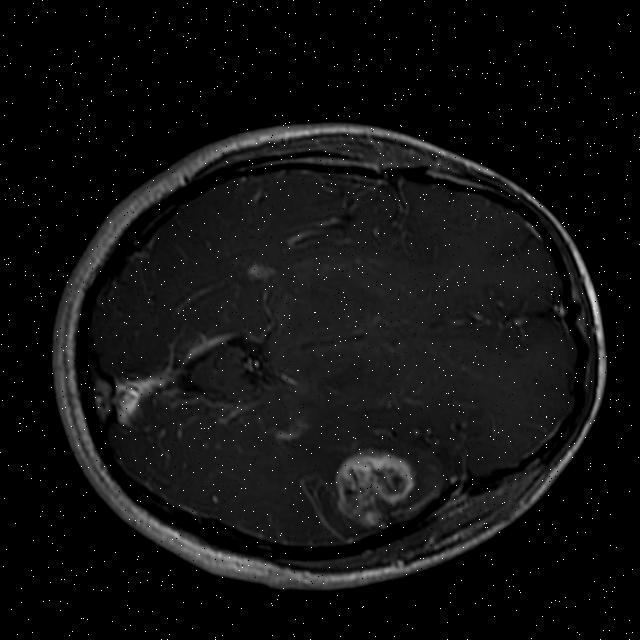Glioma: (329, 438, 425, 536)
